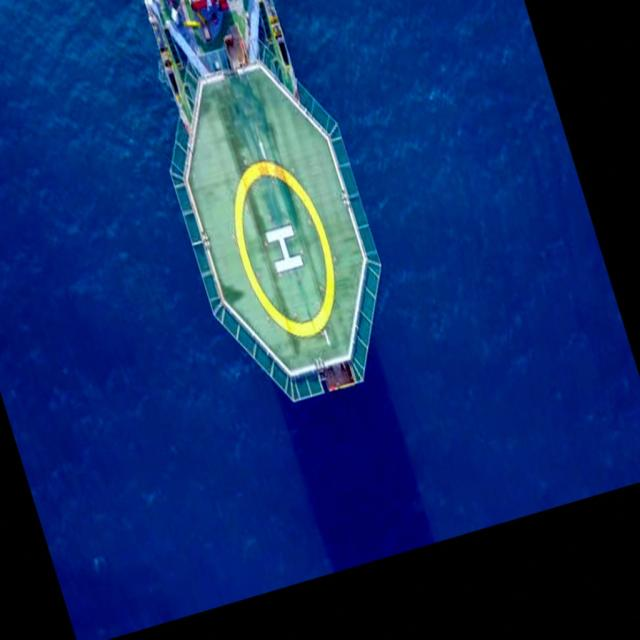helipad: (229, 156, 337, 341)
